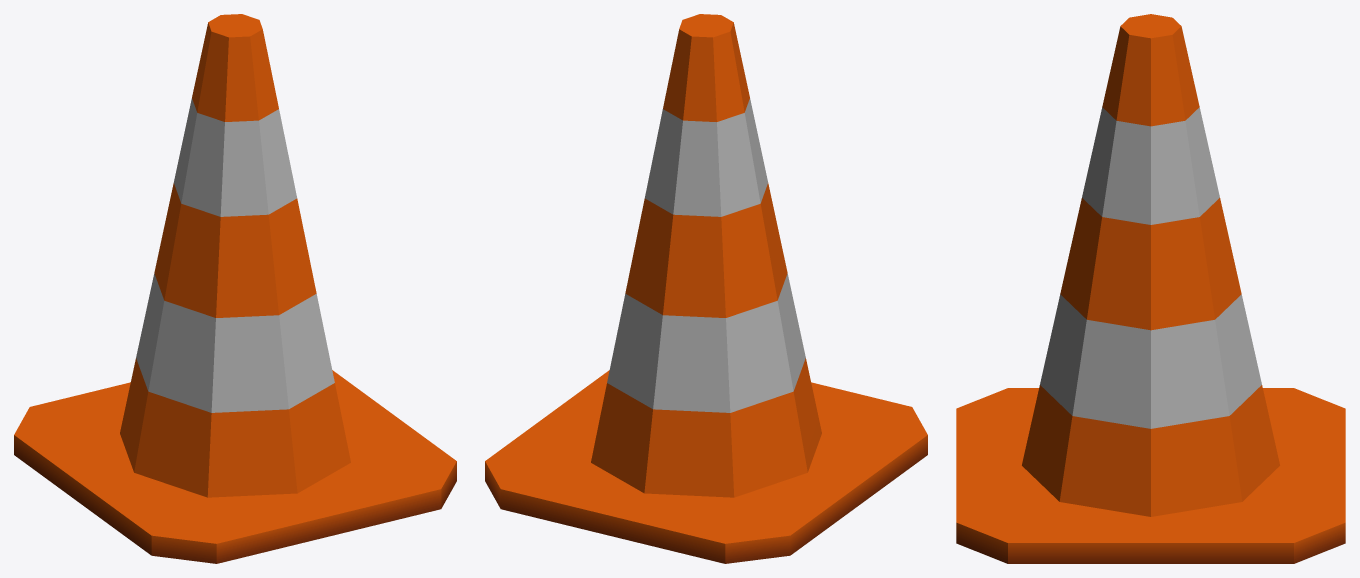
Rendered from barrel.glb.
3 views of the same model, side by side, from view 1: azimuth 30°, elevation 25°; view 2: azimuth 150°, elevation 25°; view 3: azimuth 270°, elevation 25° (orthographic). The views are drawn at different scales.
Parts seen in each view (by area): view 1: huitugou_2168_13.217; view 2: huitugou_2168_13.217; view 3: huitugou_2168_13.217.
Boxes of the visible parts, left/top/right/bottom form: huitugou_2168_13.217: left=14, top=14, right=456, bottom=563; huitugou_2168_13.217: left=485, top=14, right=927, bottom=563; huitugou_2168_13.217: left=956, top=14, right=1345, bottom=563.
Bounding box in the file's own units: 0.2242 × 0.3105 × 0.2379.
Materials: 1 (1 with a texture image).
